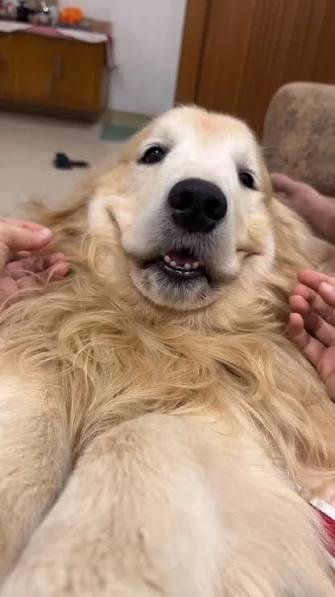adult_dog: (0, 102, 335, 597)
